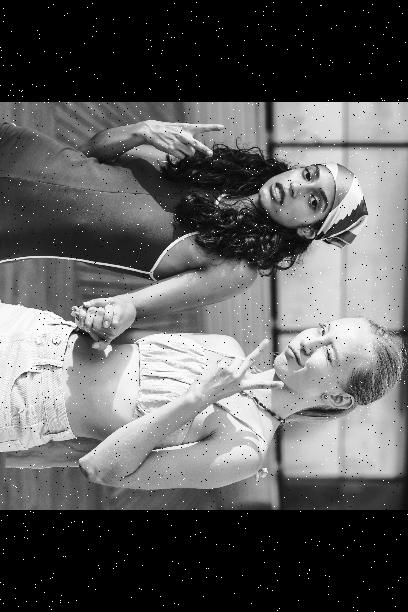Scissors: (190, 332, 288, 408), (136, 115, 228, 164)
